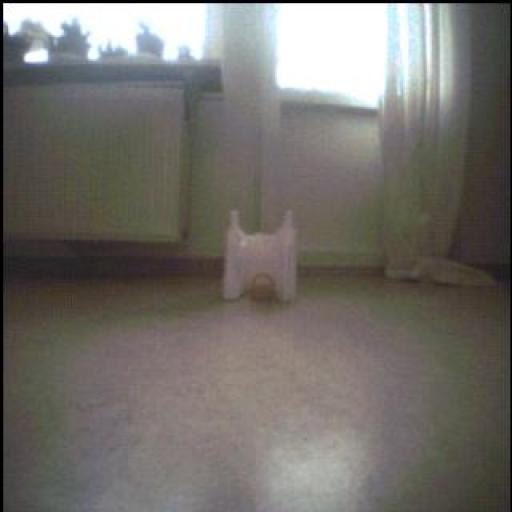Basket: (248, 272, 278, 304)
